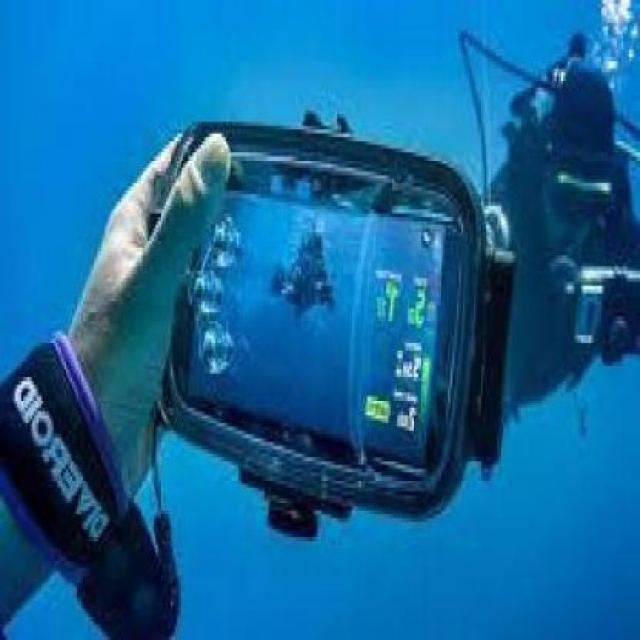electronics: (166, 122, 503, 533)
